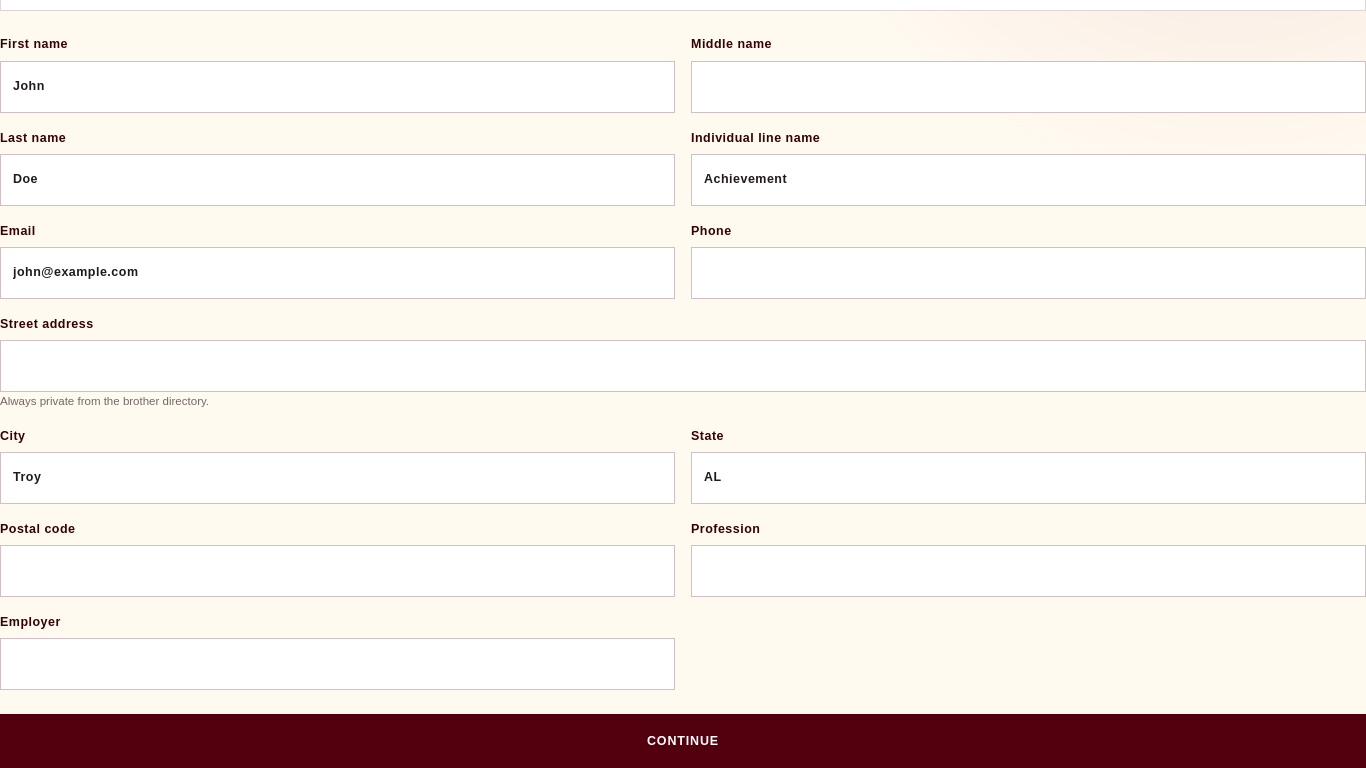
Test: OnboardingForm › moves from profile review to privacy without losing the short flow
(page scrolled)
Click the button "Continue".
click(683, 741)  # box left=0, top=714, right=1365, bottom=767
(page scrolled)
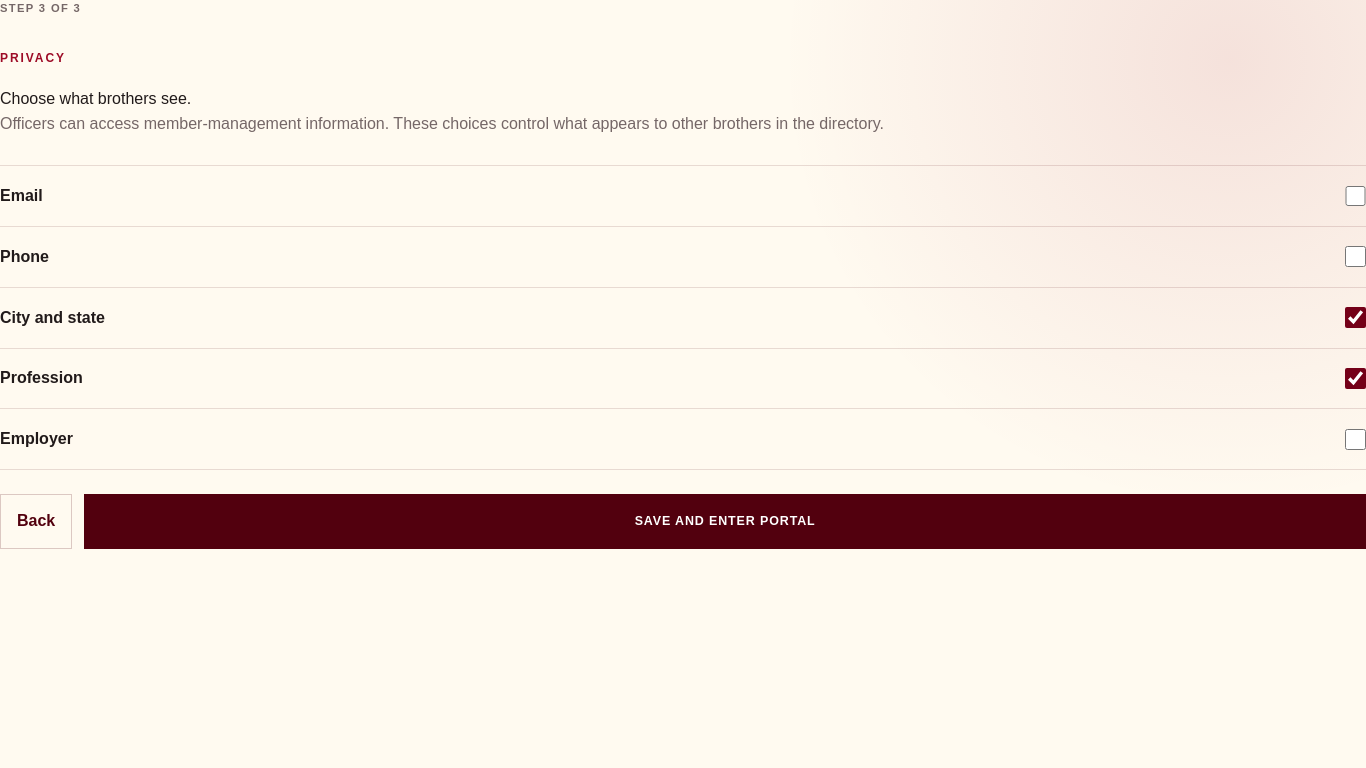
Now the text "Step 3 of 3" is shown, box left=0, top=2, right=81, bottom=14
Now the button "Save and enter portal" is shown, box left=84, top=494, right=1365, bottom=549
